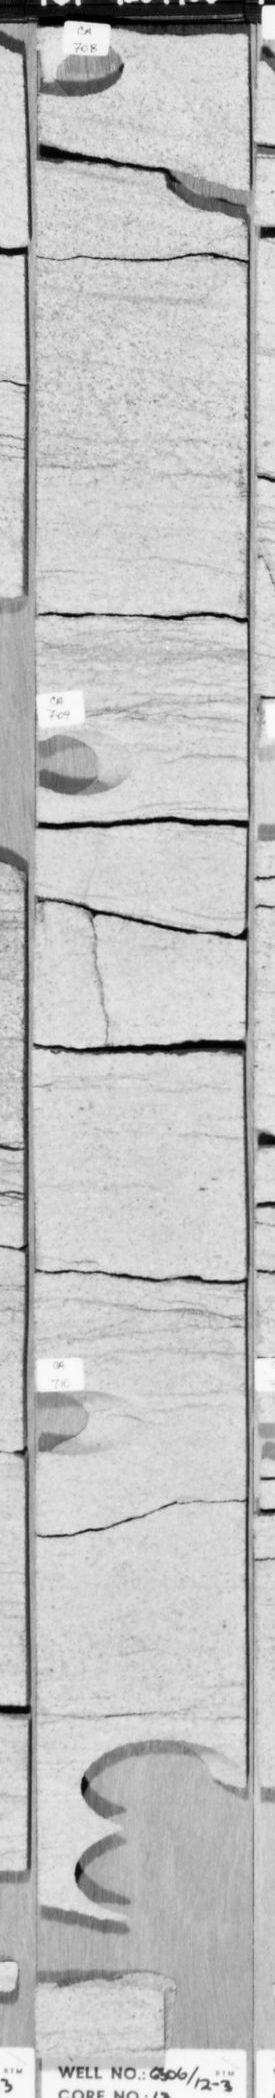hplug: (36, 1384, 150, 1460), (37, 723, 147, 797), (37, 33, 143, 106)
scal: (73, 1737, 246, 1830), (71, 1828, 131, 1920)
vplug: (148, 1979, 203, 2067)
